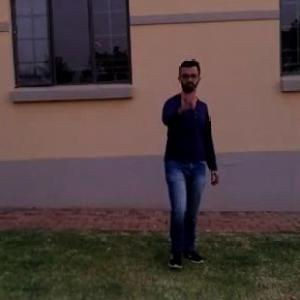takeoff-hand: (170, 86, 202, 119)
